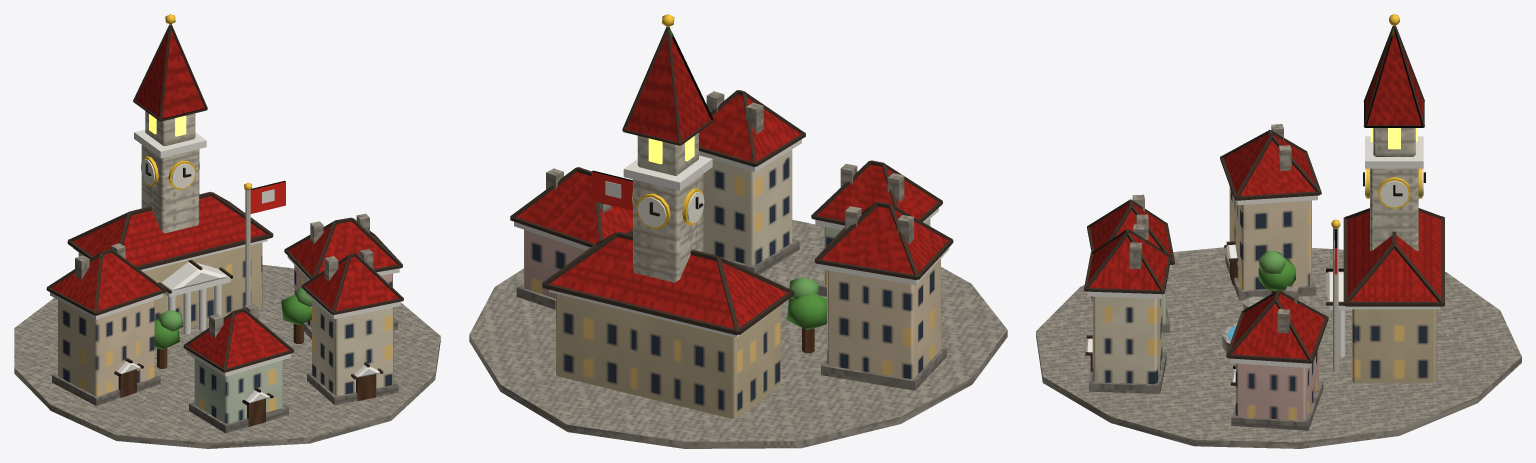
The model's file is city_dl4_red.glb.
The picture shows the model from 3 angles, left to right: view 1: azimuth 30°, elevation 25°; view 2: azimuth 150°, elevation 25°; view 3: azimuth 270°, elevation 25°; orthographic projection. The views are drawn at different scales.
Parts seen in each view (by area): view 1: city_dl4_red; view 2: city_dl4_red; view 3: city_dl4_red.
Boxes of the visible parts, x1=… form: city_dl4_red: x1=14, y1=14, x2=440, y2=448; city_dl4_red: x1=469, y1=14, x2=1007, y2=448; city_dl4_red: x1=1036, y1=14, x2=1521, y2=448.
Bounding box in the file's own units: 1.44 × 1.14 × 1.49.
2 materials, 1 textured.
